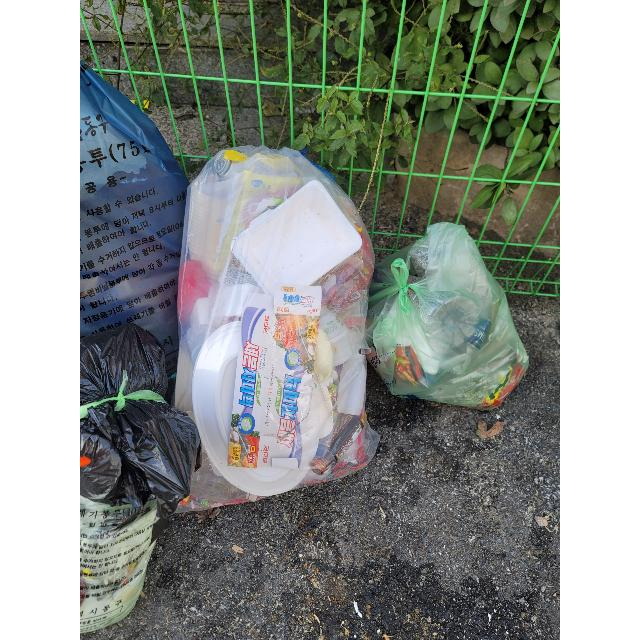general_trashbag: (80, 42, 190, 346), (366, 219, 530, 414), (80, 498, 152, 638)
other_trashbag: (165, 149, 371, 522), (80, 317, 192, 510)
